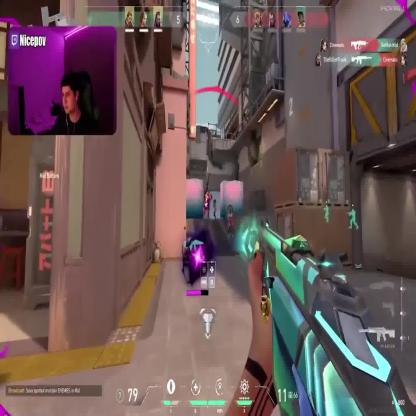enemy: (226, 205, 234, 233), (213, 198, 217, 219)
enemy_head: (228, 206, 232, 214), (214, 200, 216, 204)
